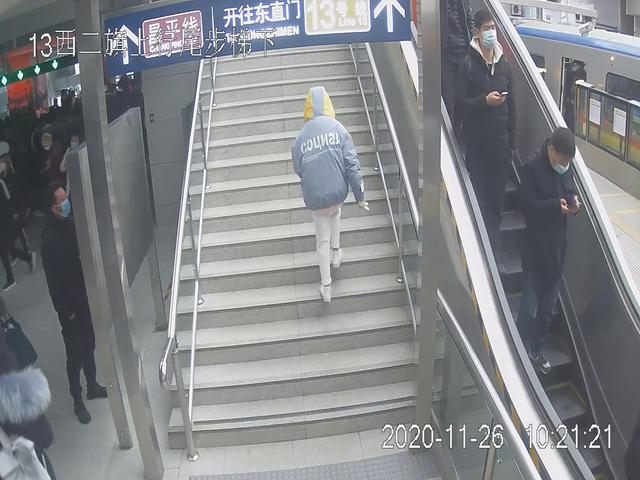person: (291, 80, 379, 300), (40, 180, 114, 426), (516, 125, 586, 377), (456, 12, 520, 258)
